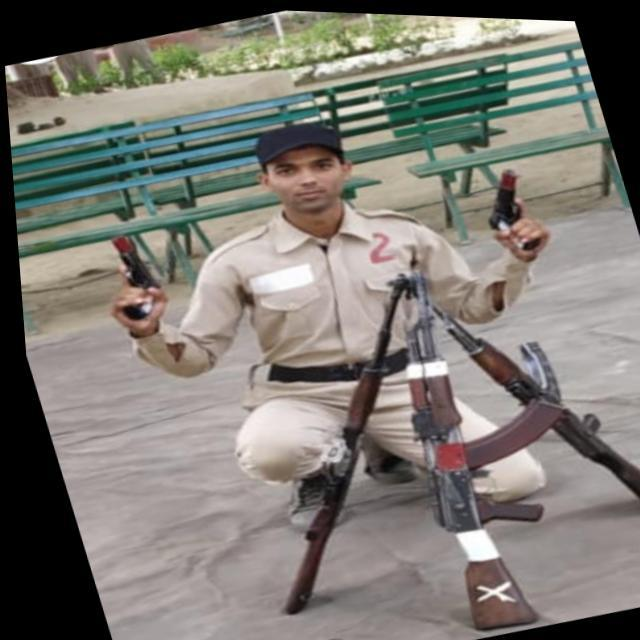weapon: (84, 222, 178, 330), (462, 156, 548, 264)
